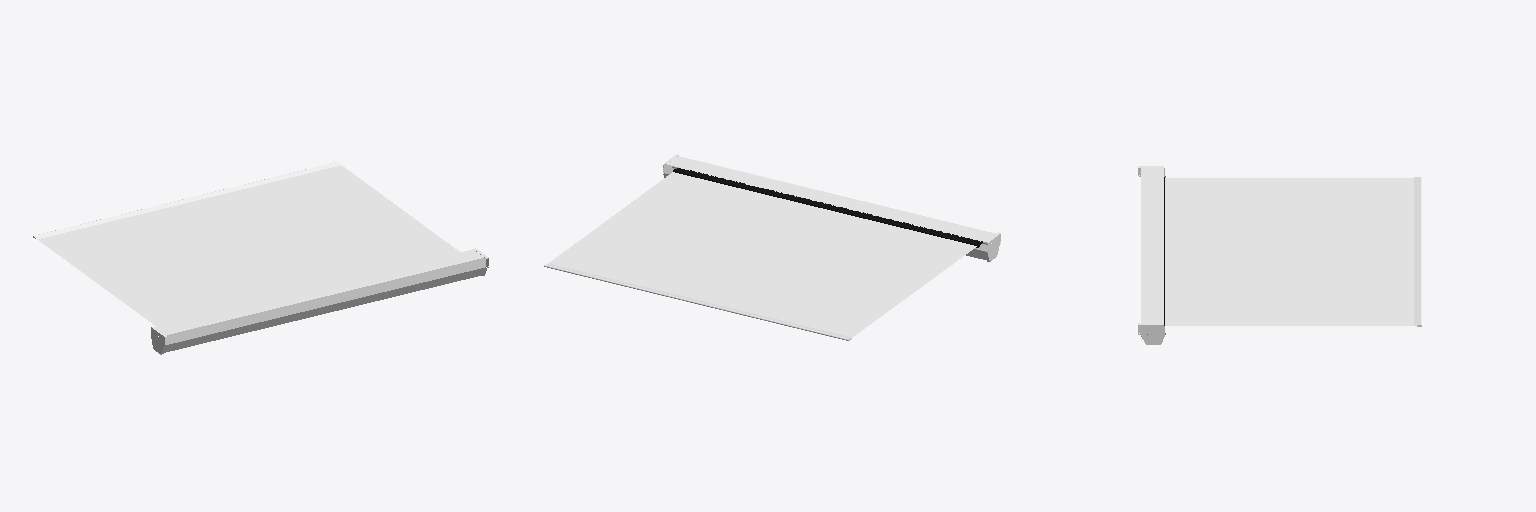
The model's file is cat30_whiteboard_white_screen.obj.
3 renders of one model, left to right at view 1: azimuth 30°, elevation 25°; view 2: azimuth 150°, elevation 25°; view 3: azimuth 270°, elevation 25°, orthographic.
Parts seen in each view (by area): view 1: Component#6, Component#7; view 2: Component#6, Component#7, Component#9; view 3: Component#6, Component#7.
Boxes of the visible parts, box(x1,y1,x2,y2) form: Component#6: box(33, 162, 459, 326); Component#7: box(156, 249, 485, 352); Component#6: box(544, 168, 980, 340); Component#7: box(664, 156, 995, 259); Component#9: box(673, 168, 982, 247); Component#6: box(1165, 177, 1421, 326); Component#7: box(1141, 168, 1163, 322).
Bounding box in the file's own units: 80.33 × 4.97 × 60.86.